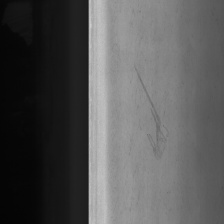water_spot: (131, 59, 175, 166)
